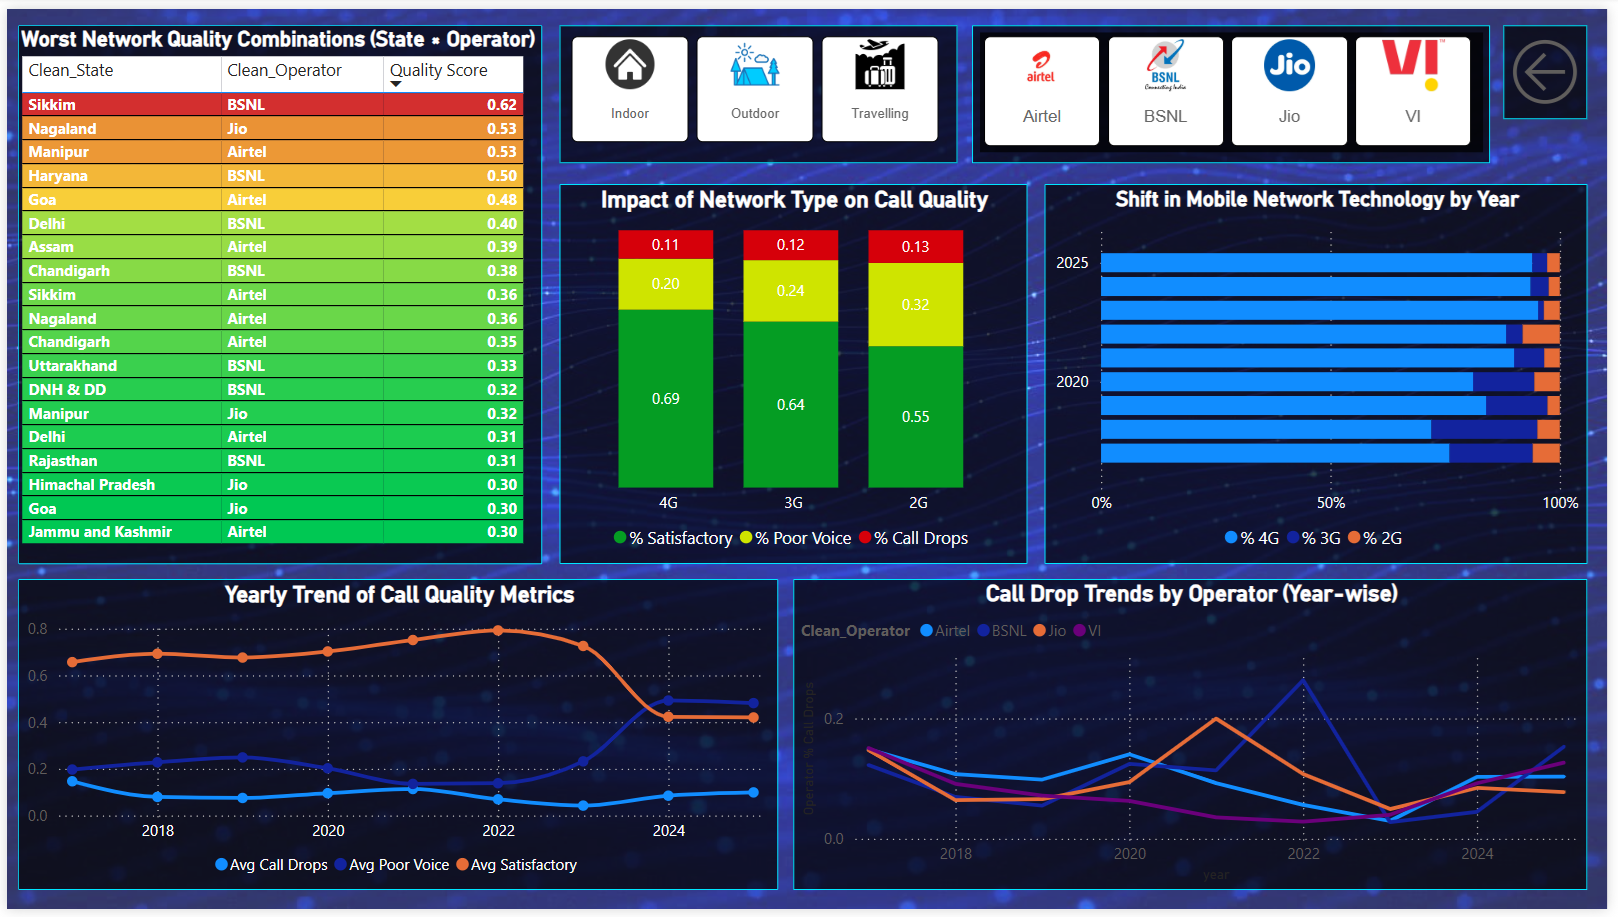

Layout of this report page (visuals, bound fields, positions):
{"tool":"powerbi","page":{"name":"Dashboard 2","canvas":[1280,720],"ordinal":1},"visuals":[{"type":"columnChart","title":"Impact of Network Type on Call Quality","fields":{"Category":["DataSet.network_type"],"Y":["DataSet.% Satisfactory","DataSet.% Poor Voice","DataSet.% Call Drops"]},"box":[442.2,140,373.3,304.4],"z":0},{"type":"hundredPercentStackedBarChart","title":"Shift in Mobile Network Technology by Year","fields":{"Y":["DataSet.% 4G","DataSet.% 3G","DataSet.% 2G"],"Category":["DataSet.year"]},"box":[830.2,139.5,433.7,304.7],"z":1000},{"type":"lineChart","title":"Yearly Trend of Call Quality Metrics","fields":{"Category":["DataSet.year"],"Y":["DataSet.Avg Call Drops","DataSet.Avg Poor Voice","DataSet.Avg Satisfactory"]},"box":[9.4,456.2,608,248.4],"z":2000},{"type":"lineChart","title":"Call Drop Trends by Operator (Year-wise)","fields":{"Category":["DataSet.year"],"Series":["DataSet.Clean_Operator"],"Y":["DataSet.Operator % Call Drops"]},"box":[629.1,455.8,634.9,248.8],"z":3000},{"type":"tableEx","title":"Worst Network Quality Combinations (State × Operator)","fields":{"Values":["DataSet.Clean_State","DataSet.Clean_Operator","DataSet.Quality Score"]},"box":[9.3,12.8,418.6,431.4],"z":4000},{"type":"ChicletSlicer1448559807354","fields":{"Category":["Operator_table.Operator"],"Image":["Operator_table.Logo"]},"box":[772.1,12.8,414,110.5],"z":5000},{"type":"ChicletSlicer1448559807354","fields":{"Category":["Inout_Table.Item"],"Image":["Inout_Table.Icon"]},"box":[442.2,13.3,317.8,110],"z":6000},{"type":"actionButton","box":[1196.5,12.8,67.4,75.6],"z":7000}]}

Visuals, with their boxes in screenshot pixels (x1, y1, x2, y2), scaled from the page's 1280x720 canvas onto the 1618x917 screenshot:
"Impact of Network Type on Call Quality" columnChart: region(559, 178, 1031, 566)
"Shift in Mobile Network Technology by Year" hundredPercentStackedBarChart: region(1049, 178, 1598, 566)
"Yearly Trend of Call Quality Metrics" lineChart: region(12, 581, 780, 897)
"Call Drop Trends by Operator (Year-wise)" lineChart: region(795, 581, 1598, 897)
"Worst Network Quality Combinations (State × Operator)" tableEx: region(12, 16, 541, 566)
ChicletSlicer1448559807354 - Operator_table.Operator x Operator_table.Logo: region(976, 16, 1499, 157)
ChicletSlicer1448559807354 - Inout_Table.Item x Inout_Table.Icon: region(559, 17, 961, 157)
actionButton: region(1512, 16, 1598, 113)
